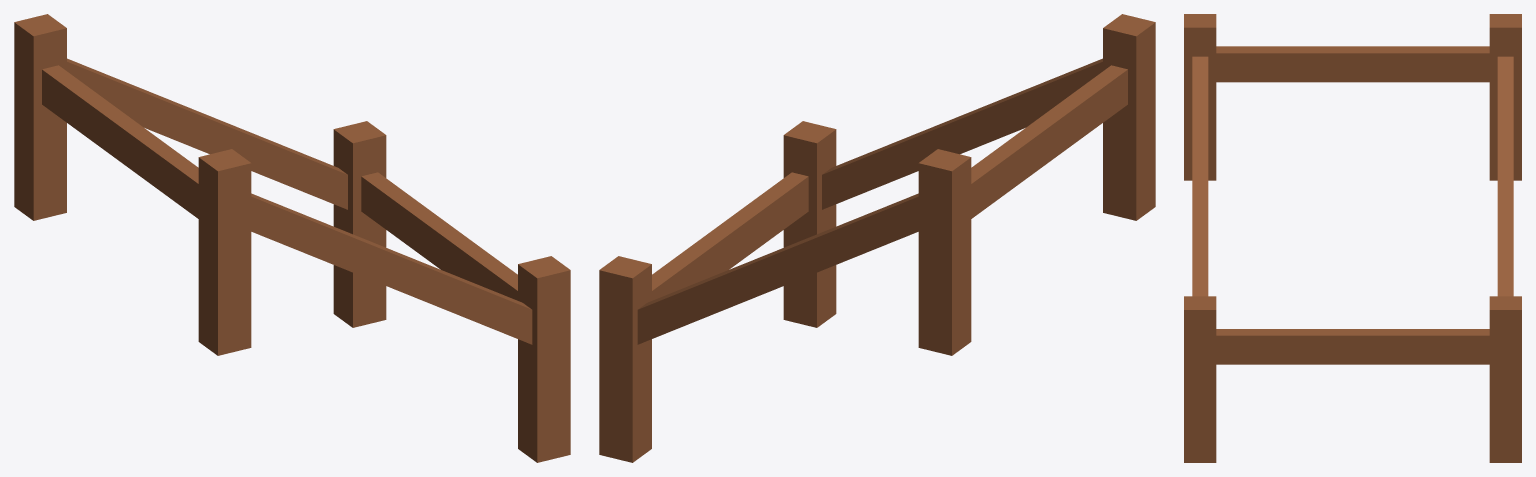
Rendered from ObstacleSmallTileDiagonal.obj.
3 renders of one model, left to right at view 1: azimuth 30°, elevation 25°; view 2: azimuth 150°, elevation 25°; view 3: azimuth 270°, elevation 25°, orthographic. The views are drawn at different scales.
Visible parts, largest first — view 1: woodStructure.003; view 2: woodStructure.003; view 3: woodStructure.003.
Part boxes in pixels (x1=…): woodStructure.003: x1=14, y1=14, x2=570, y2=462; woodStructure.003: x1=599, y1=14, x2=1155, y2=462; woodStructure.003: x1=1184, y1=14, x2=1521, y2=462.
Bounding box in the file's own units: 1 × 1 × 1.
